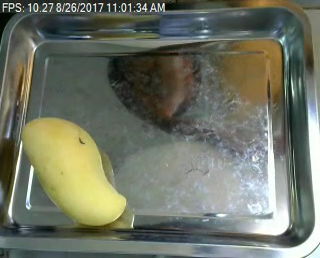Mango: (14, 115, 129, 230)
